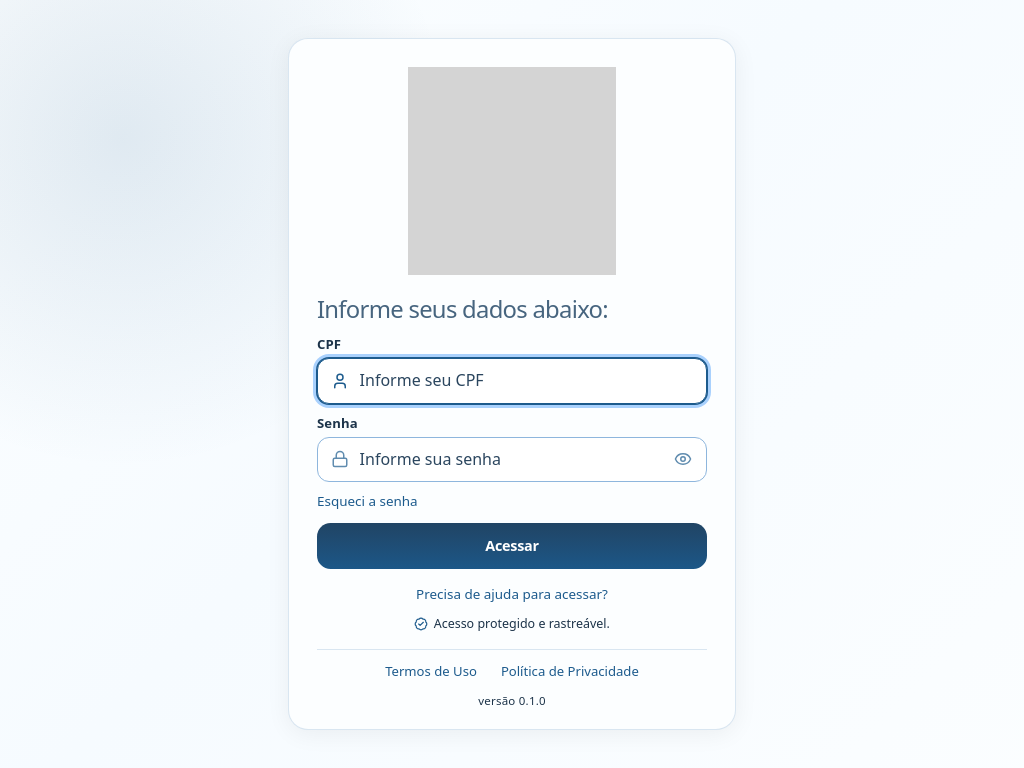
Test: LoginPageClient › exibe mensagem adequada para erro HTTP 401
Type "12345678900" into the field labelled "CPF".
click(512, 381); type("12345678900")  # box [317, 358, 707, 404]
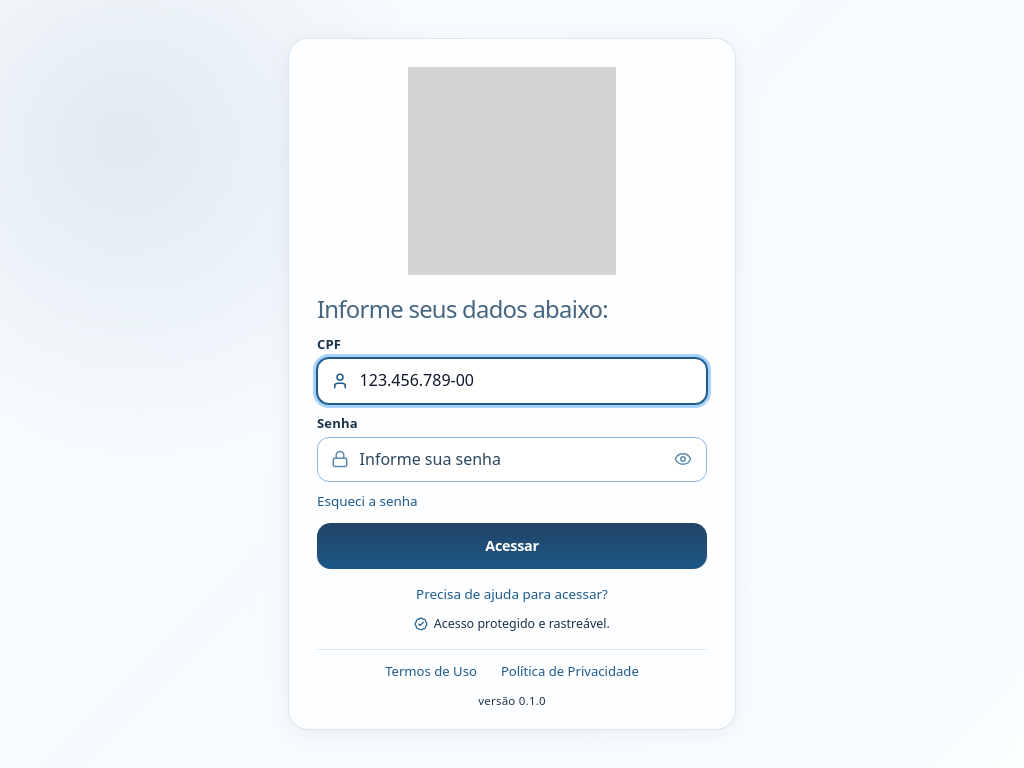
Type "Senha@123" into the password field labelled "Senha".
click(512, 459); type("Senha@123")  # box [317, 436, 707, 482]
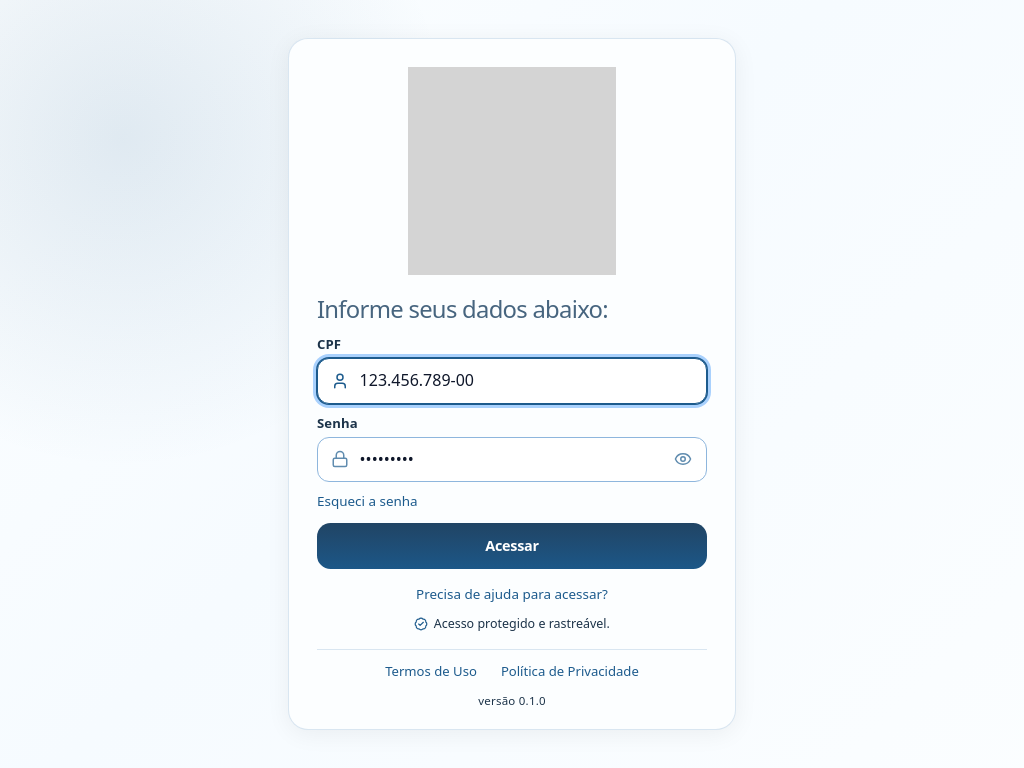
Click the button "Acessar".
click(512, 546)  # box [317, 523, 707, 569]
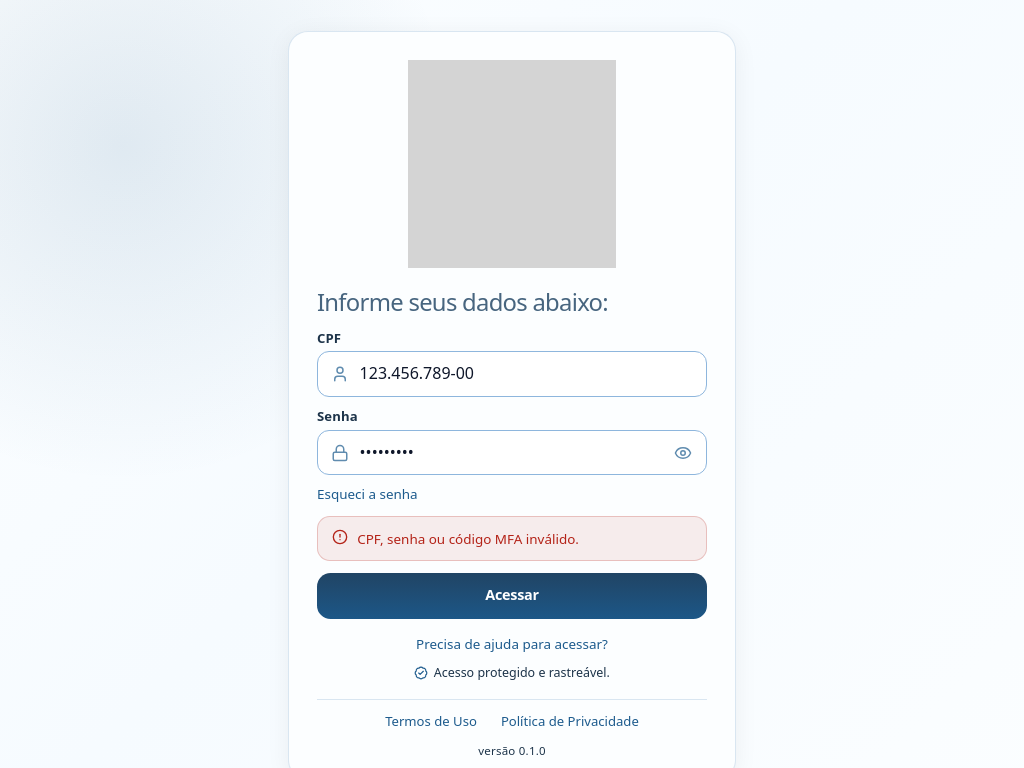
expect the message reads "CPF, senha ou código MFA inválido.": met, box [357, 530, 579, 548]
